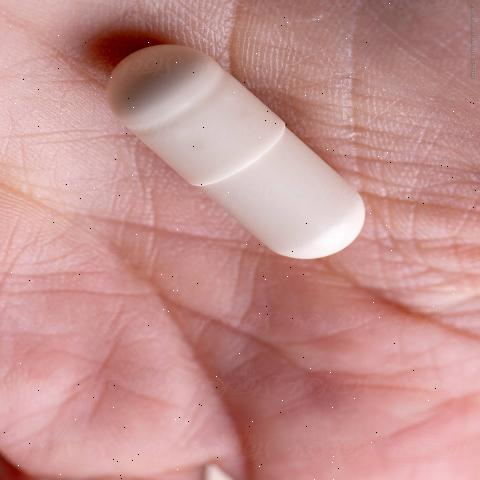Pill: (79, 33, 406, 269)
